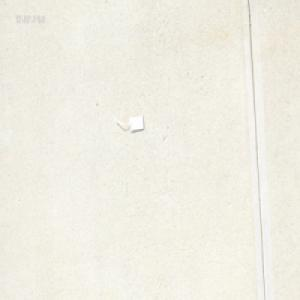LuggageTag: (113, 114, 144, 132)
